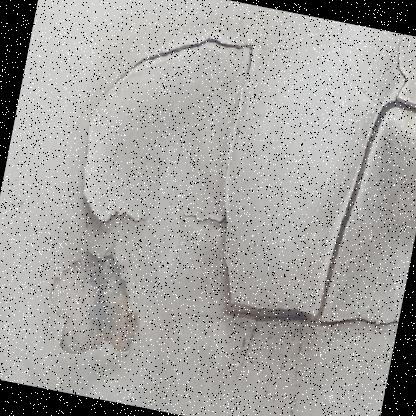Crack: (136, 0, 415, 415), (17, 0, 213, 395)
